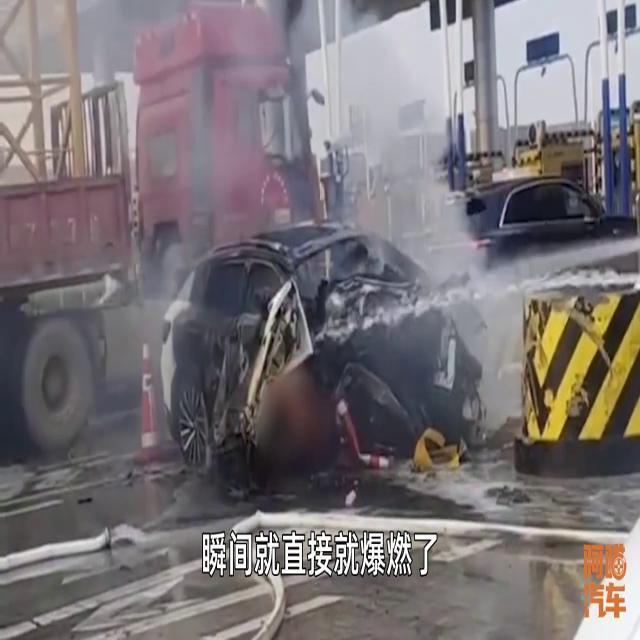Smoke: (153, 0, 509, 334)
